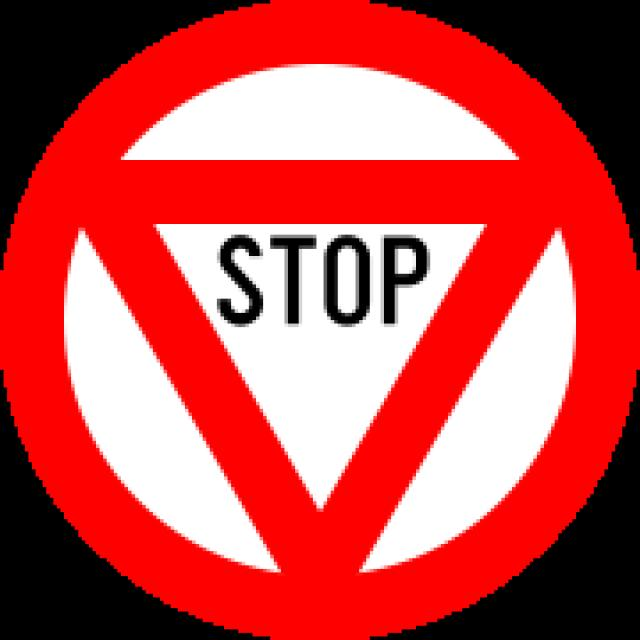Traffic sign: (6, 55, 625, 616)
